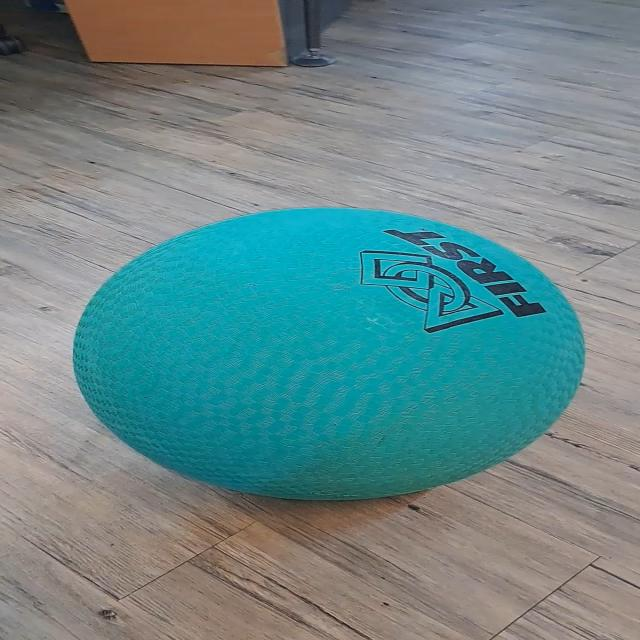ALGAE: (70, 206, 587, 502)
